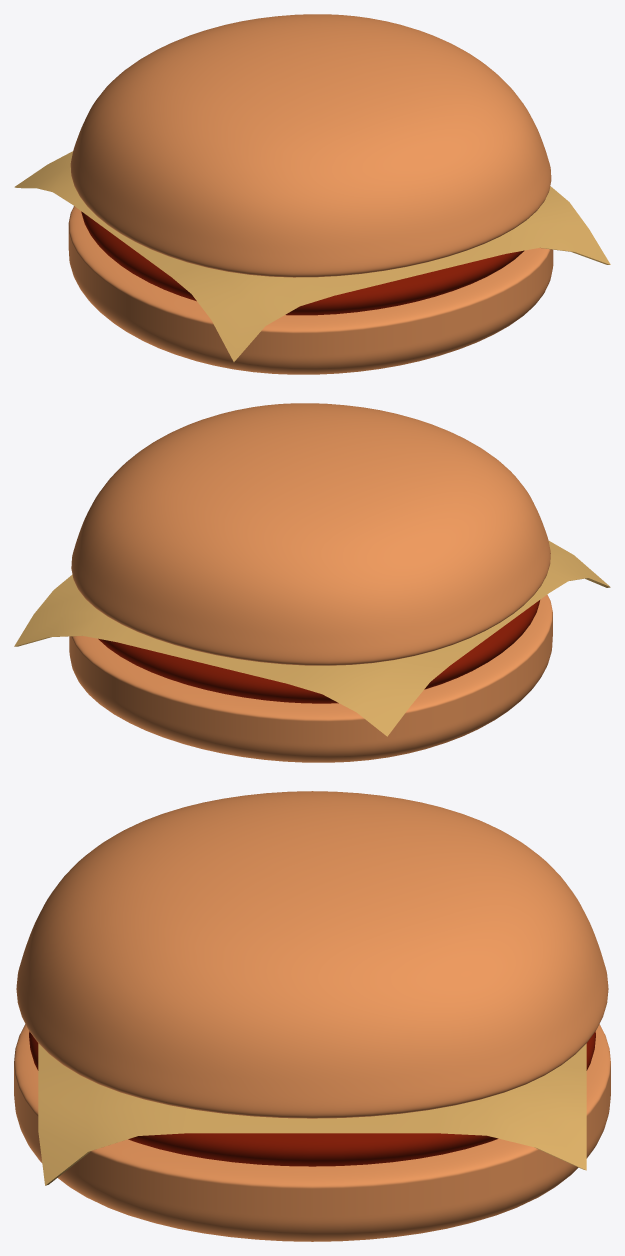
File: hamburger.glb
The picture shows the model from 3 angles, top to bottom: view 1: azimuth 30°, elevation 25°; view 2: azimuth 150°, elevation 25°; view 3: azimuth 270°, elevation 25°; orthographic projection. The views are drawn at different scales.
Visible parts, largest first — view 1: Cube.001, Cube.003, Plane, Cube.002; view 2: Cube.001, Cube.003, Plane, Cube.002; view 3: Cube.001, Cube.003, Plane, Cube.002.
Boxes of the visible parts, bbox=[...] form: Cube.001: bbox=[70, 14, 551, 277]; Cube.003: bbox=[68, 206, 553, 374]; Plane: bbox=[14, 151, 610, 361]; Cube.002: bbox=[81, 211, 524, 315]; Cube.001: bbox=[71, 403, 550, 665]; Cube.003: bbox=[69, 594, 552, 762]; Plane: bbox=[14, 541, 610, 736]; Cube.002: bbox=[98, 600, 539, 703]; Cube.001: bbox=[16, 791, 608, 1118]; Cube.003: bbox=[14, 1024, 610, 1241]; Plane: bbox=[38, 1043, 586, 1185]; Cube.002: bbox=[29, 1031, 595, 1166].
Size of the model in its own units: 8.71 by 4.9 by 8.71.
